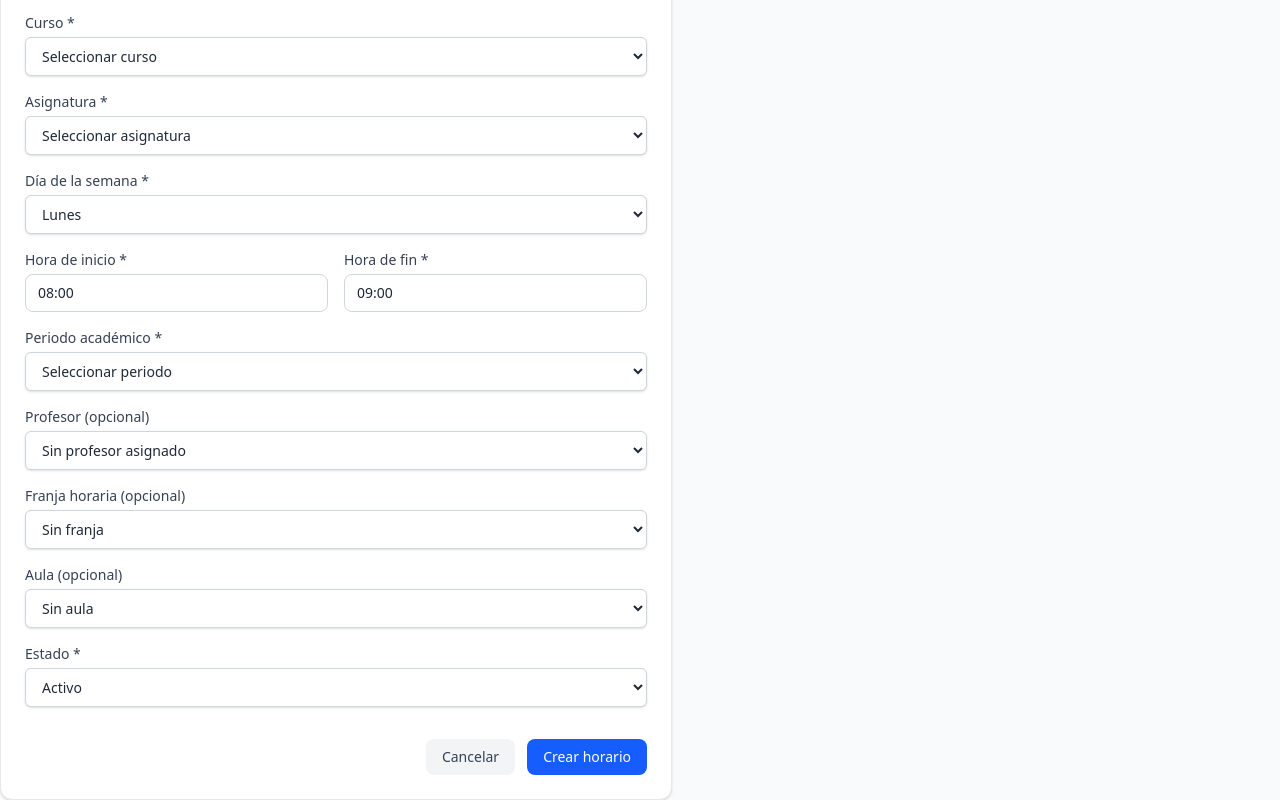
Test: ScheduleFormPage › shows validation errors on empty submit
This screenshot has width=1280, height=800.
(page scrolled)
Click the button "Crear horario": [587, 757] box [527,739,647,775]
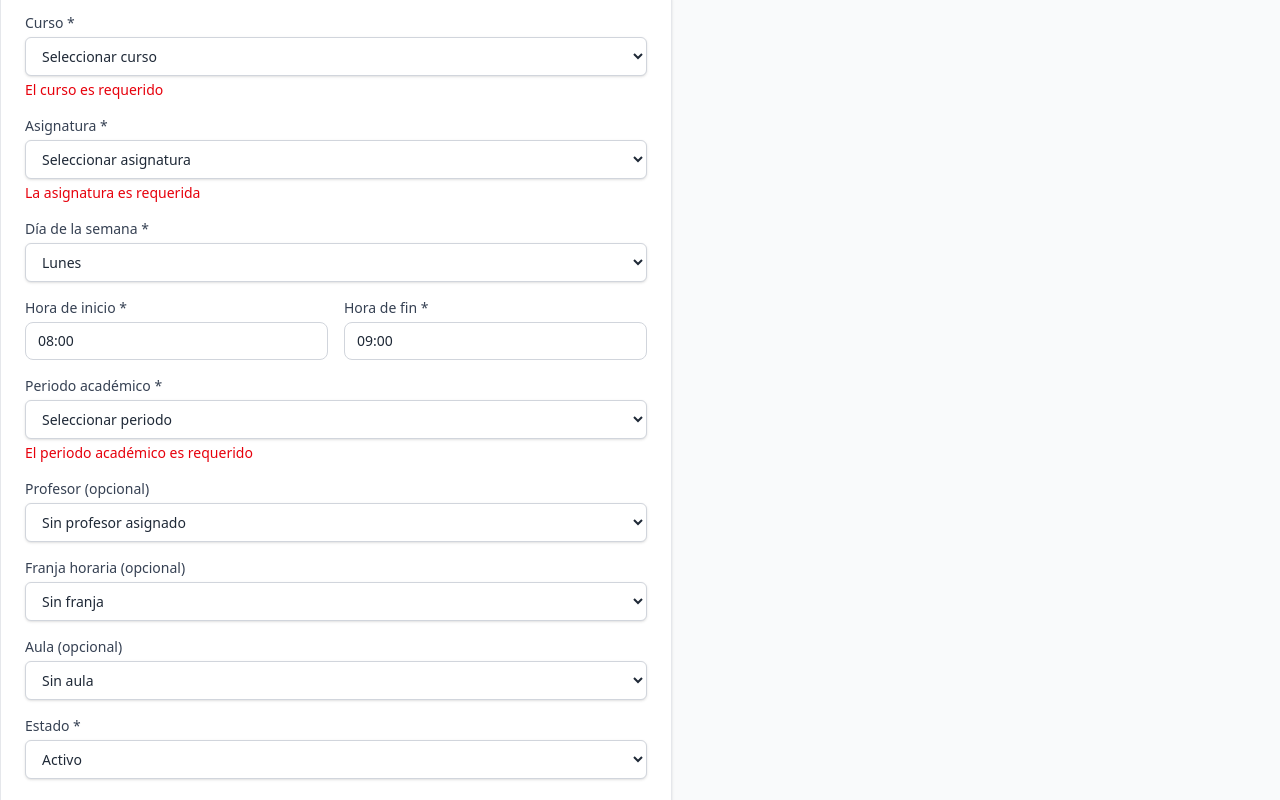
Expected: the text "El curso es requerido" is shown, [25,80,163,99]
Expected: the text "La asignatura es requerida" is shown, [25,183,200,202]
